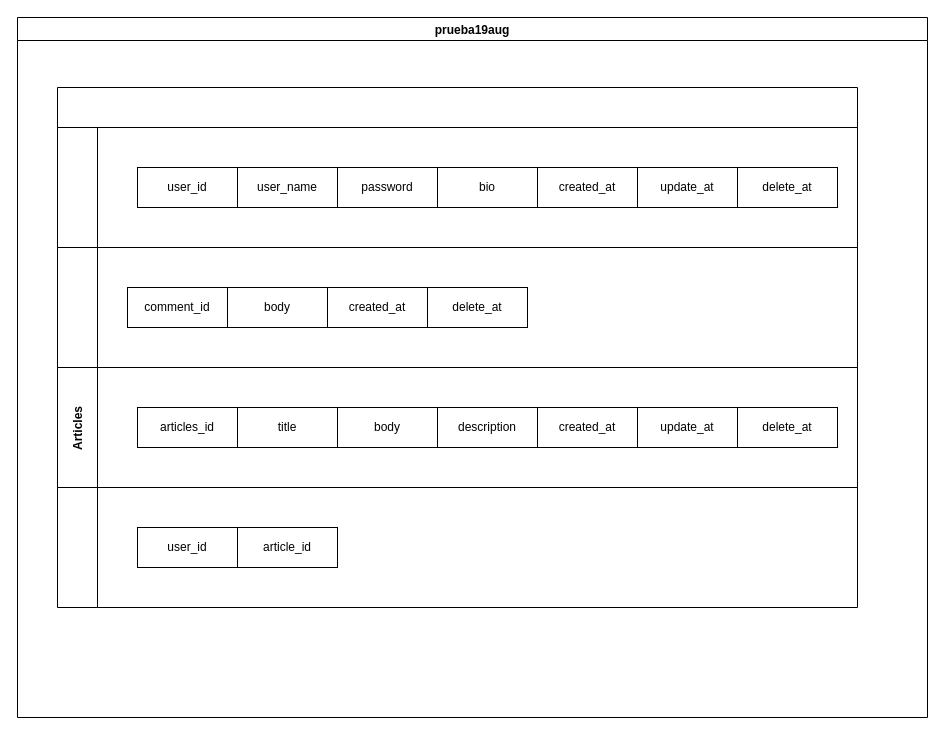
Image size: 945x735. Some labels were removed from this diagram. Here are the shapes that lost their labels. From the top down, the box of each, then its label:
(56, 126, 858, 248): Users
(56, 86, 858, 488): Pool
(56, 246, 858, 368): Comments
(56, 486, 858, 608): blocked_users
